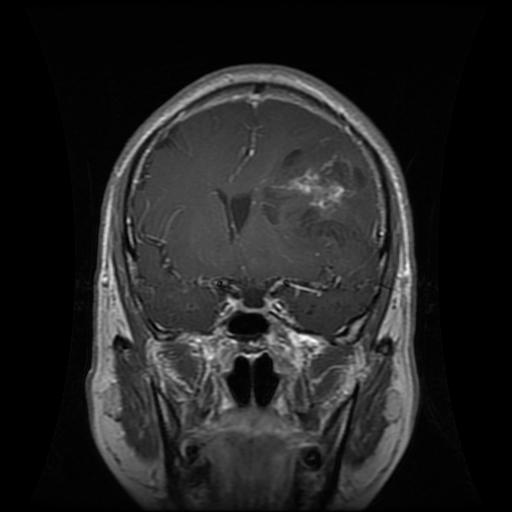Gliomia_tumour: (261, 147, 372, 245)
